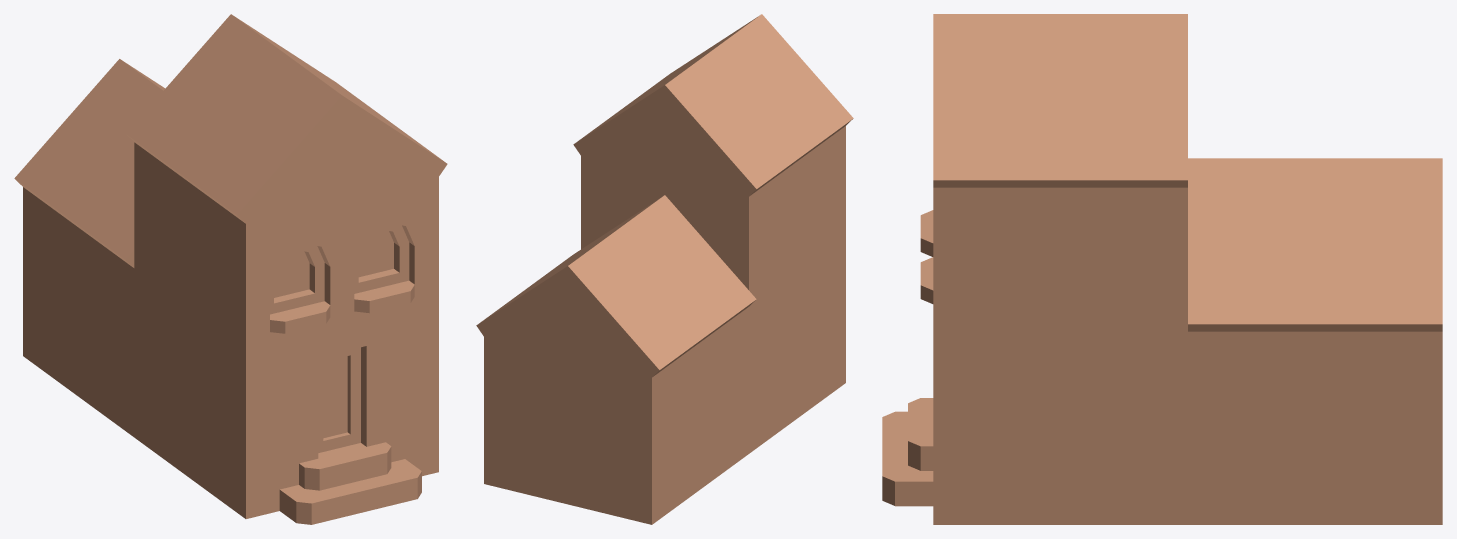
The model's file is building-sample-house-b.obj.
3 views of the same model, side by side, from view 1: azimuth 30°, elevation 25°; view 2: azimuth 150°, elevation 25°; view 3: azimuth 270°, elevation 25° (orthographic). The views are drawn at different scales.
Bounding box in the file's own units: 1.09 × 1.98 × 2.2.
